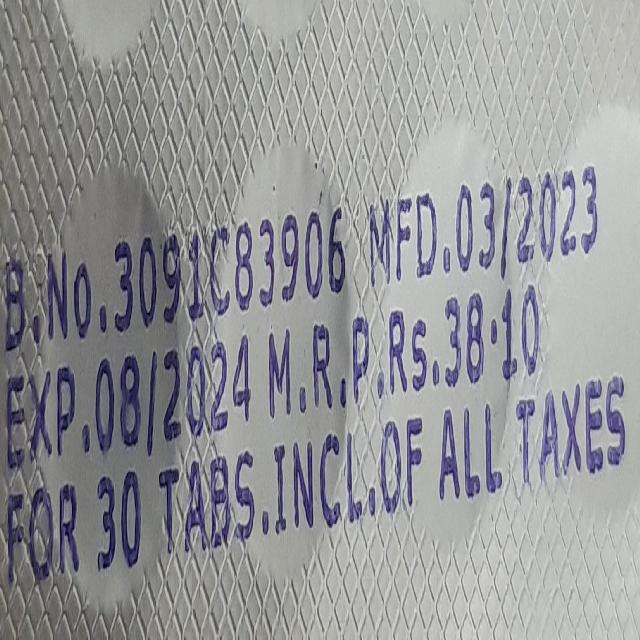sentence: (0, 351, 640, 607), (5, 252, 544, 471), (5, 162, 599, 351), (8, 493, 24, 584)
